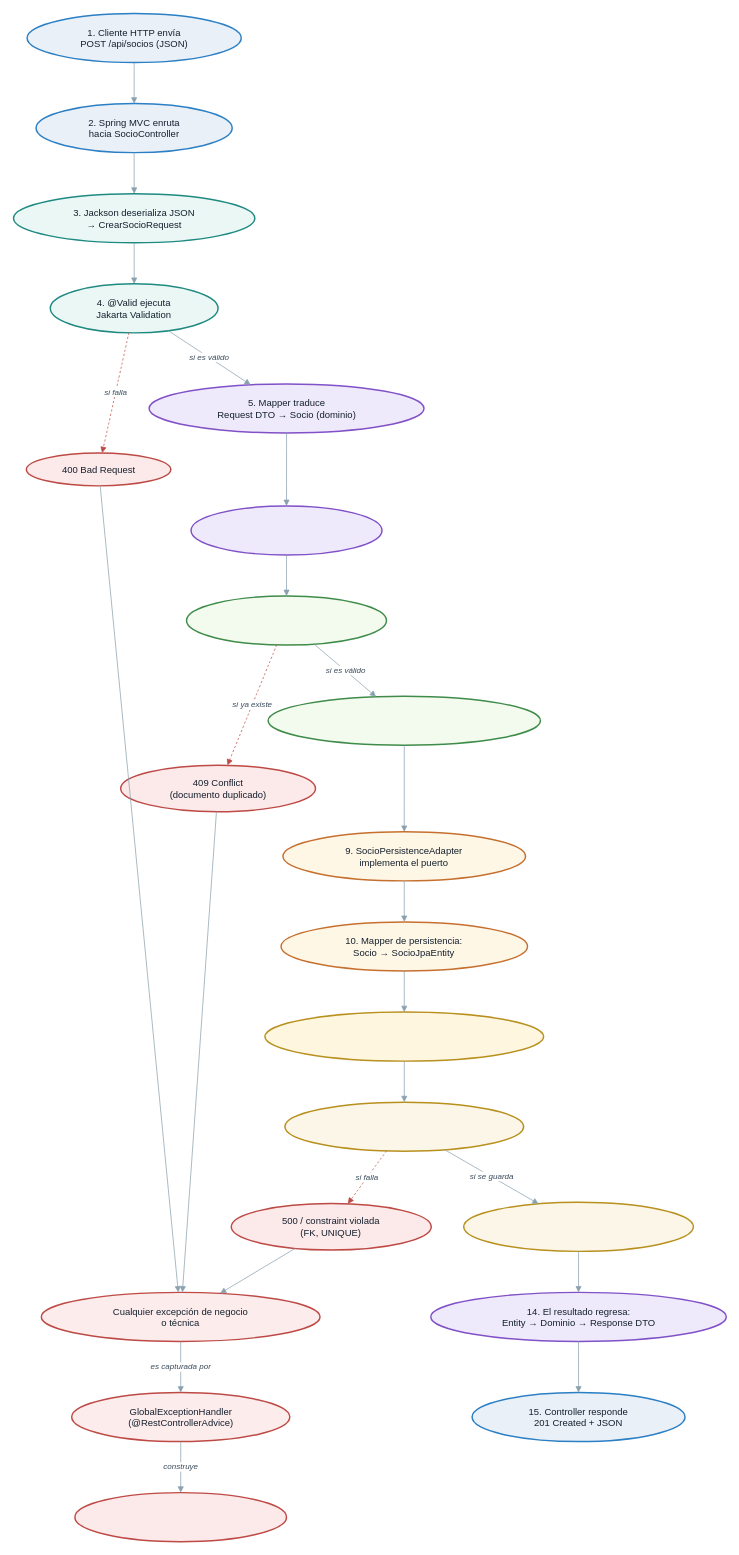
Image size: 739x1555. Some labels were removed from this diagram. Here are the shapes that lost their labels. From the top down, the centre of each, then its label:
At pixel 286 530: "6. Controller invoca el Port IN (Use Case)".
At pixel 286 620: "7. SocioService valida reglas de negocio".
At pixel 404 720: "8. Service llama al Port OUT (SocioRepositoryPort)".
At pixel 404 1036: "11. Spring Data JPA + Hibernate generan el SQL".
At pixel 404 1126: "12. JDBC ejecuta el INSERT en PostgreSQL".
At pixel 578 1226: "13. PostgreSQL confirma (PK/FK/UNIQUE validados)".
At pixel 180 1517: "ApiError + código HTTP correcto".
